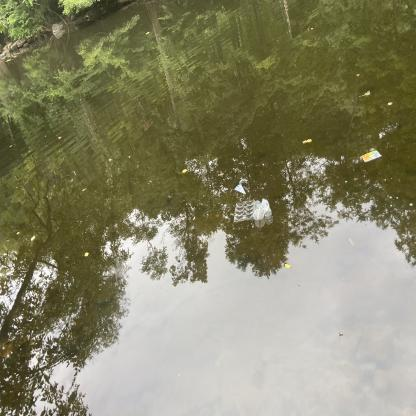trash: (230, 198, 258, 226), (358, 147, 386, 166), (260, 193, 273, 221), (251, 198, 266, 222), (232, 181, 248, 197)
